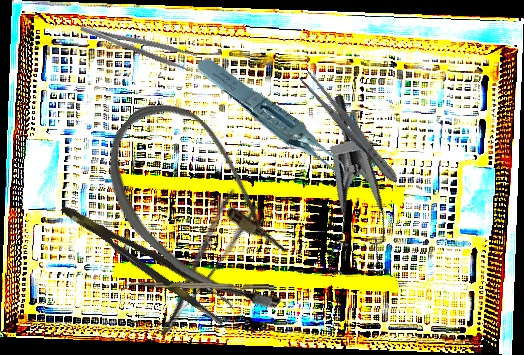Cannula: (75, 83, 337, 334)
Chopper: (120, 279, 275, 298)
Dressing Forceps: (136, 187, 262, 339), (296, 68, 404, 188), (78, 13, 199, 74)
Speculum: (264, 93, 419, 292)
Tissue Forceps: (193, 31, 355, 215), (58, 189, 238, 328)
